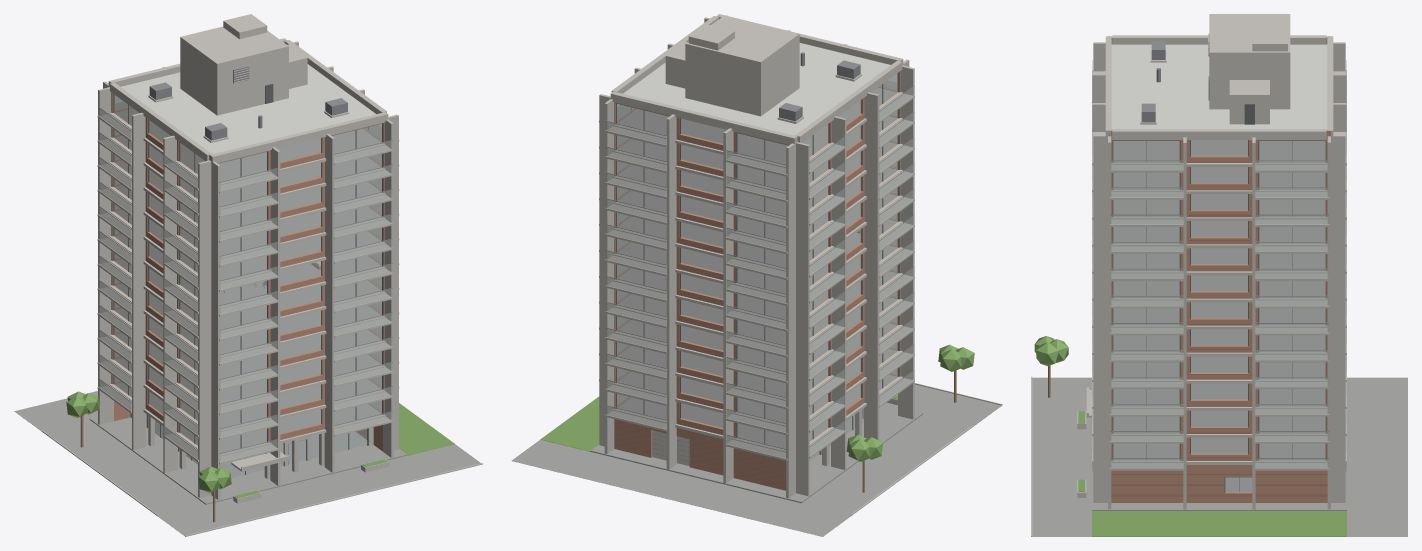
The model's file is clay-slab-balcony-tower-clay-v003.glb.
The picture shows the model from 3 angles, left to right: view 1: azimuth 30°, elevation 25°; view 2: azimuth 150°, elevation 25°; view 3: azimuth 270°, elevation 25°; orthographic projection. The views are drawn at different scales.
Parts seen in each view (by area): view 1: CLAY_CONCRETE, CLAY_GLASS, CLAY_FLOOR, CLAY_FOUNDATION, CLAY_WALL, CLAY_MEMBRANE, CLAY_HARDWARE, CLAY_PLANTING, CLAY_TRIM, CLAY_STONE; view 2: CLAY_CONCRETE, CLAY_GLASS, CLAY_FLOOR, CLAY_FOUNDATION, CLAY_WALL, CLAY_MEMBRANE, CLAY_HARDWARE, CLAY_PLANTING, CLAY_TRIM, CLAY_JOINT, CLAY_PALE; view 3: CLAY_CONCRETE, CLAY_GLASS, CLAY_FLOOR, CLAY_FOUNDATION, CLAY_WALL, CLAY_MEMBRANE, CLAY_PLANTING, CLAY_HARDWARE, CLAY_TRIM, CLAY_JOINT.
Boxes of the visible parts, left/top/right/bottom form: CLAY_CONCRETE: left=97, top=14, right=399, bottom=503; CLAY_GLASS: left=98, top=94, right=392, bottom=477; CLAY_FLOOR: left=115, top=108, right=381, bottom=452; CLAY_FOUNDATION: left=14, top=391, right=482, bottom=535; CLAY_WALL: left=111, top=40, right=384, bottom=453; CLAY_MEMBRANE: left=121, top=64, right=375, bottom=153; CLAY_HARDWARE: left=98, top=66, right=392, bottom=453; CLAY_PLANTING: left=66, top=391, right=454, bottom=498; CLAY_TRIM: left=112, top=84, right=382, bottom=474; CLAY_STONE: left=41, top=430, right=482, bottom=536; CLAY_CONCRETE: left=599, top=14, right=914, bottom=498; CLAY_GLASS: left=606, top=73, right=914, bottom=460; CLAY_FLOOR: left=617, top=87, right=896, bottom=448; CLAY_FOUNDATION: left=511, top=384, right=1001, bottom=536; CLAY_WALL: left=614, top=60, right=902, bottom=490; CLAY_MEMBRANE: left=623, top=43, right=890, bottom=135; CLAY_HARDWARE: left=605, top=52, right=914, bottom=461; CLAY_PLANTING: left=540, top=344, right=974, bottom=461; CLAY_TRIM: left=616, top=72, right=899, bottom=454; CLAY_JOINT: left=614, top=114, right=863, bottom=488; CLAY_PALE: left=652, top=74, right=861, bottom=466; CLAY_CONCRETE: left=1077, top=14, right=1346, bottom=509; CLAY_GLASS: left=1092, top=140, right=1346, bottom=491; CLAY_FLOOR: left=1113, top=140, right=1325, bottom=460; CLAY_FOUNDATION: left=1032, top=377, right=1407, bottom=536; CLAY_WALL: left=1108, top=37, right=1330, bottom=502; CLAY_MEMBRANE: left=1111, top=44, right=1327, bottom=129; CLAY_PLANTING: left=1034, top=336, right=1346, bottom=536; CLAY_HARDWARE: left=1092, top=34, right=1346, bottom=458; CLAY_TRIM: left=1112, top=76, right=1326, bottom=492; CLAY_JOINT: left=1111, top=215, right=1327, bottom=496.
Size of the model in its own units: 37.36 by 47 by 37.2.
